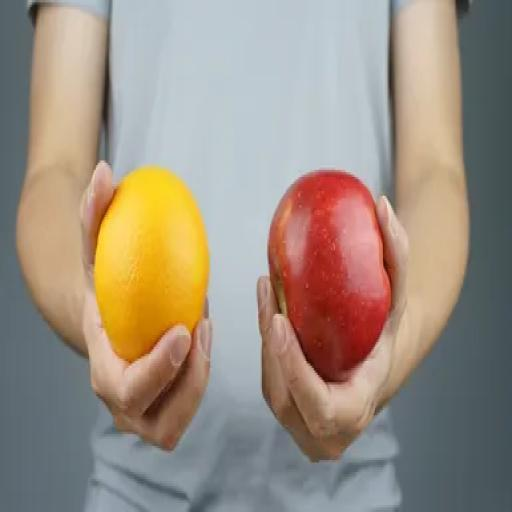apple: (268, 170, 390, 382)
orange: (95, 166, 210, 360)
